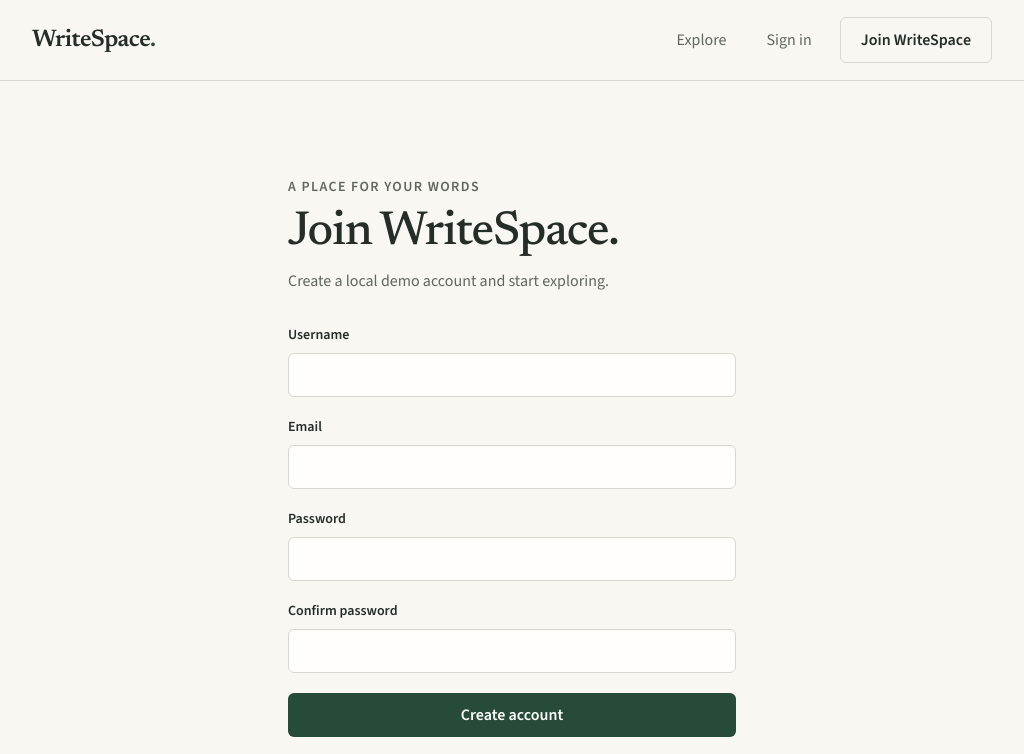
validation and storage failure feedback › does not navigate or update React identity after a partial registration write
The width and height of the screenshot is (1024, 754).
In the field labelled "Username": (512, 375) [288,353,736,397], type "writer"
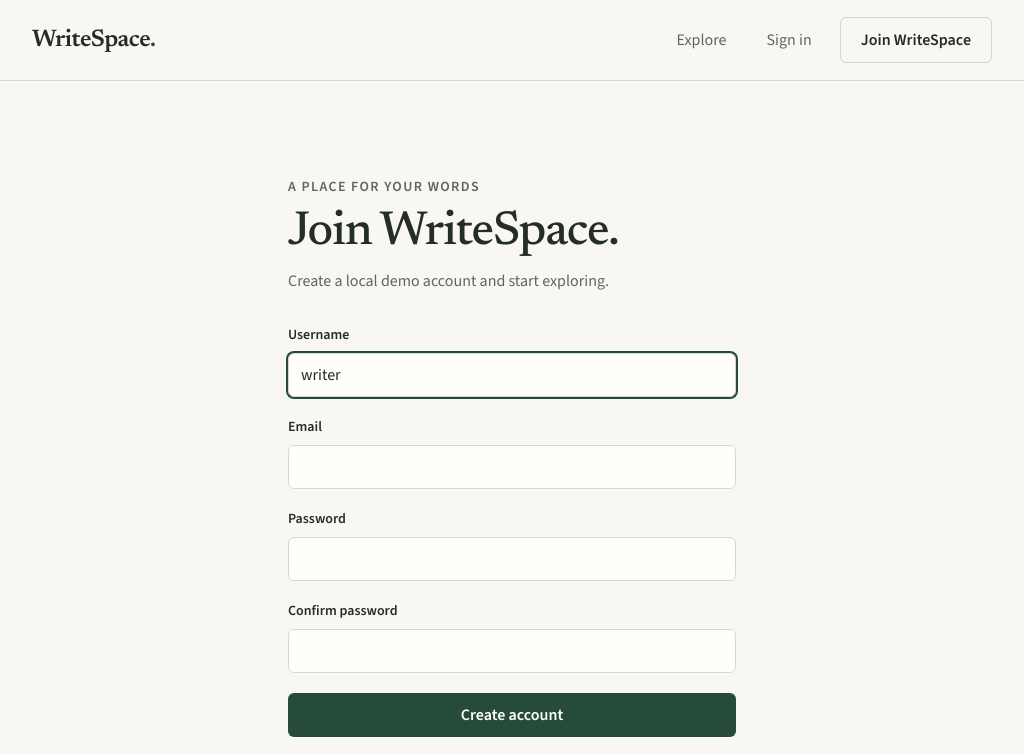
In the field labelled "Email": (512, 467) [288,445,736,489], type "writer@example.test"
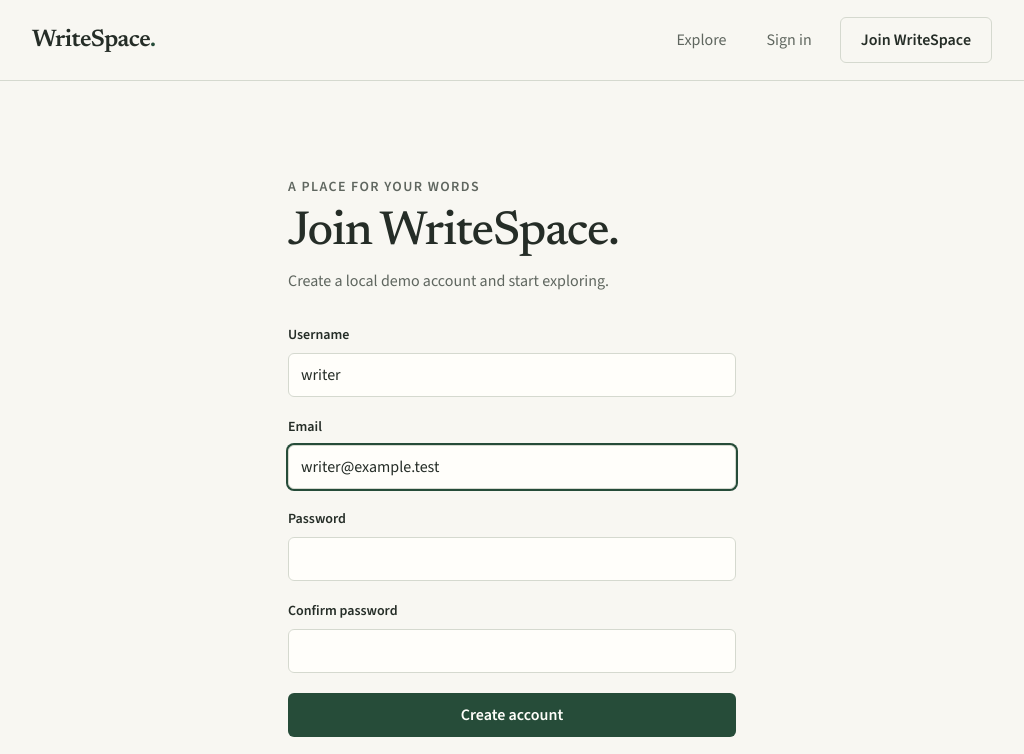
In the password field labelled "Password": (512, 559) [288,537,736,581], type " demo-only "
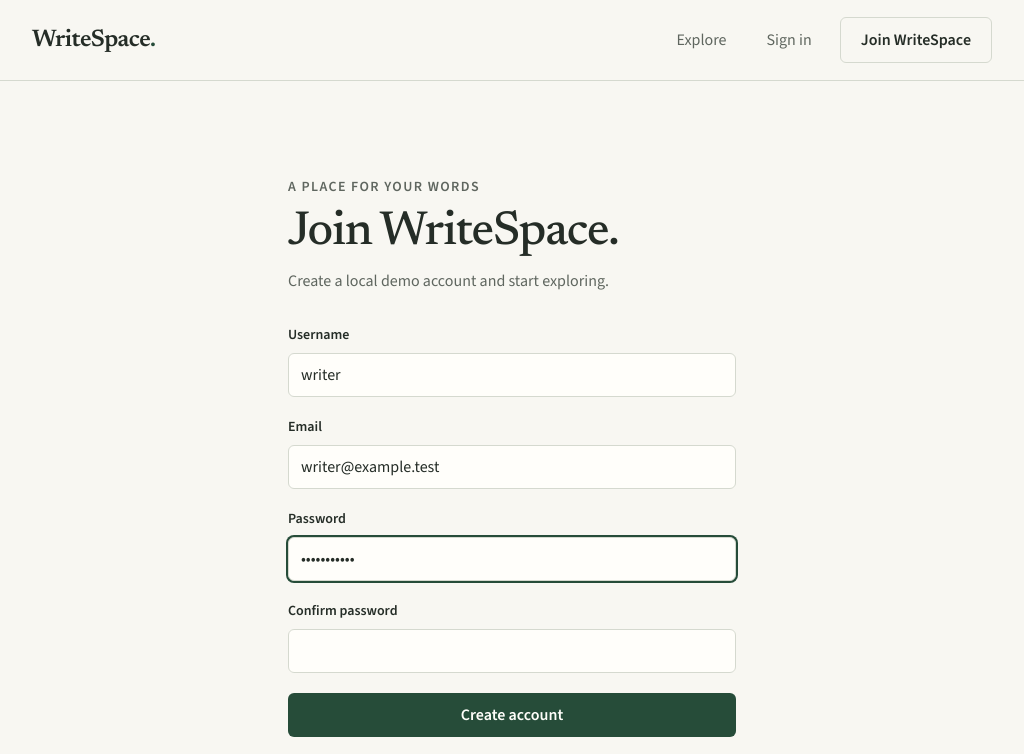
In the password field labelled "Confirm password": (512, 651) [288,629,736,673], type " demo-only "
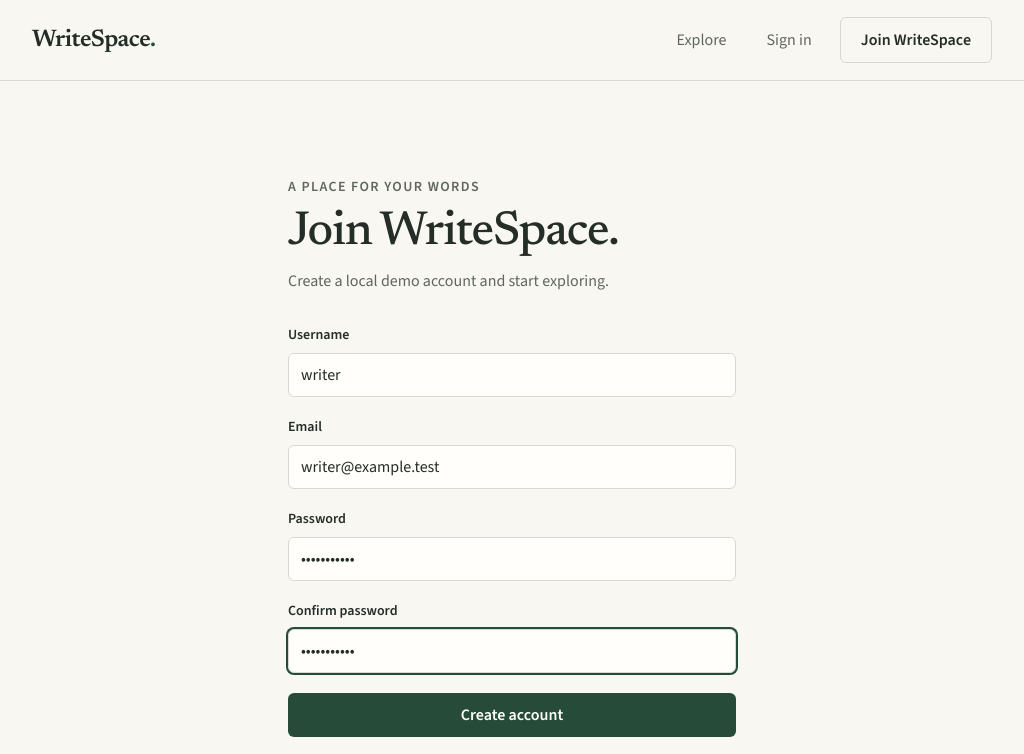
Click the button "Create account": (512, 715) [288,693,736,737]
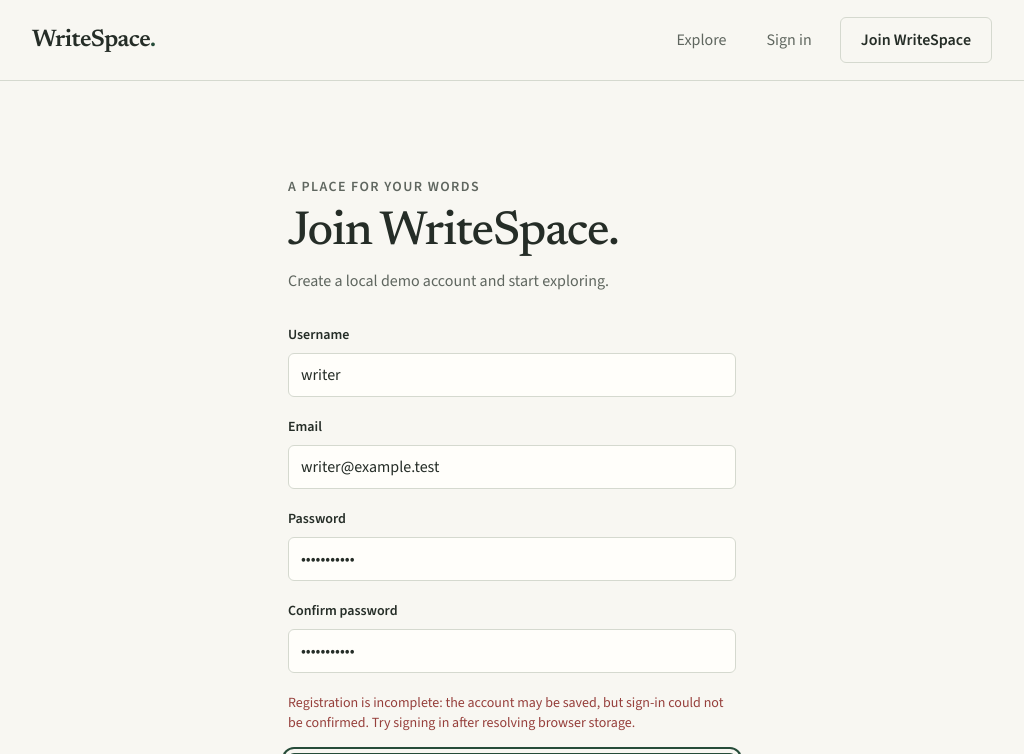
expect the message shows "Registration is incomplete": met, box [288,693,723,732]
